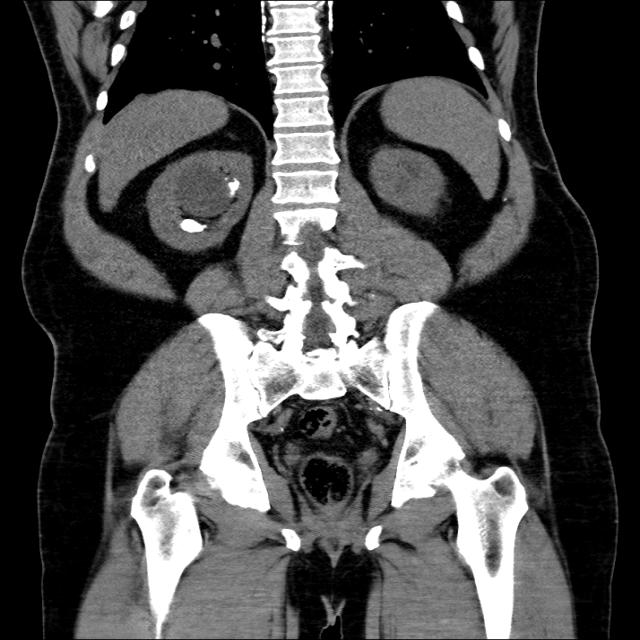kidneystone: (179, 219, 208, 233), (228, 178, 241, 196)
